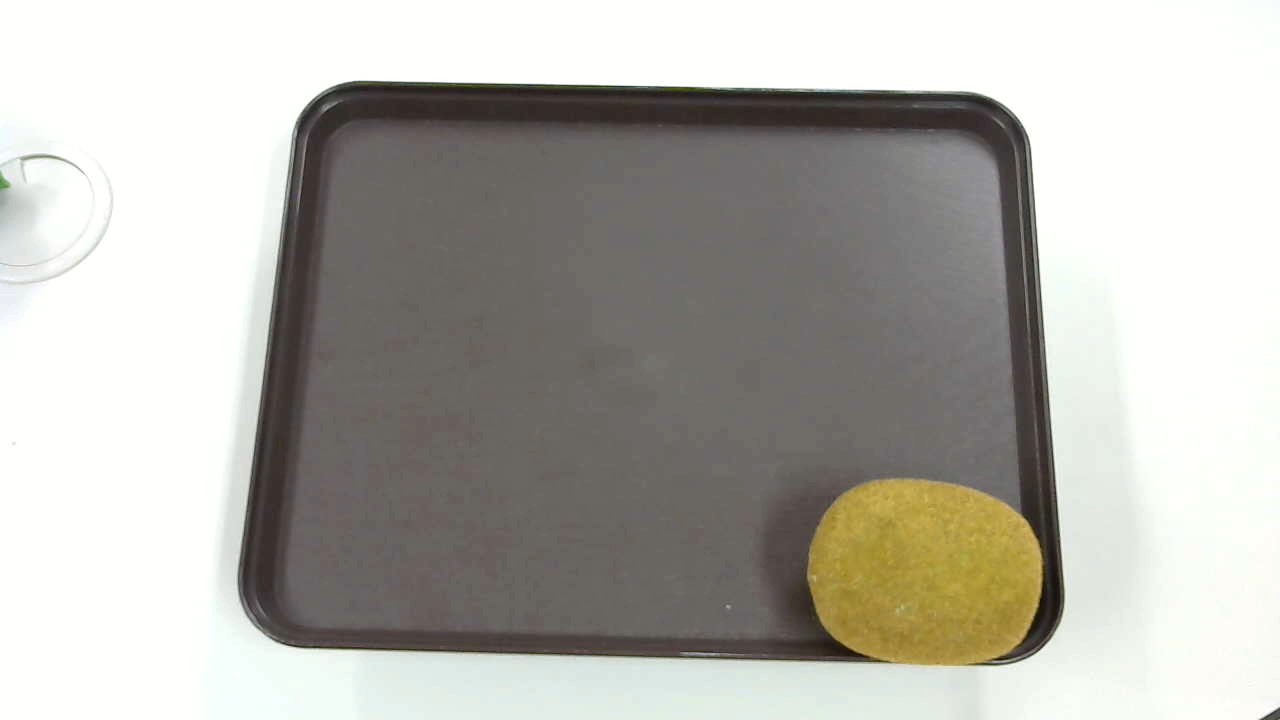mangosteen: (791, 466, 1069, 673)
